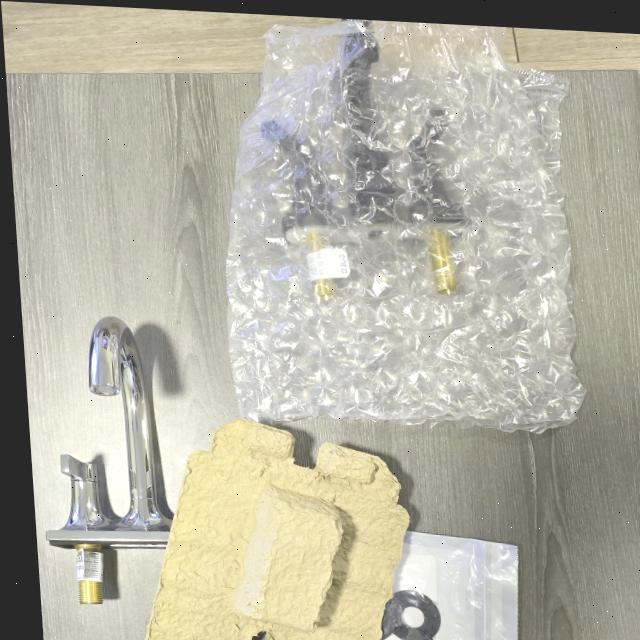10o: (45, 317, 171, 604)
13o: (379, 530, 517, 640)
9c: (225, 18, 583, 431)
